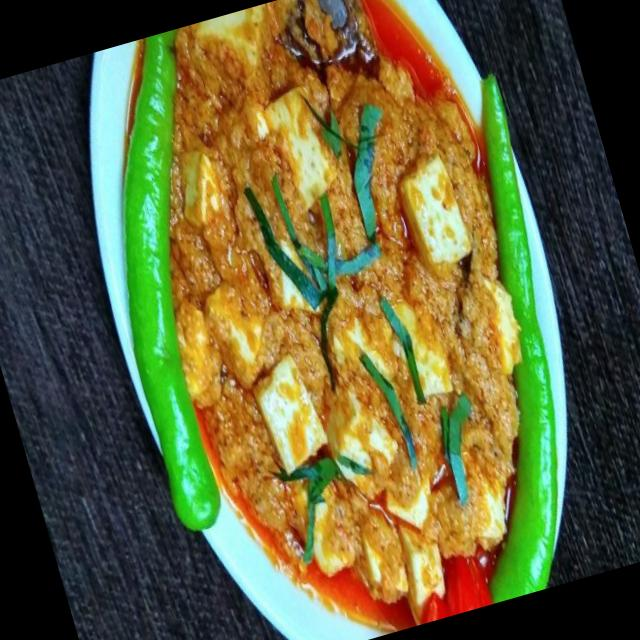ShahiPaneer: (84, 0, 601, 640)
